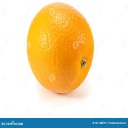orange: (27, 1, 94, 99)
